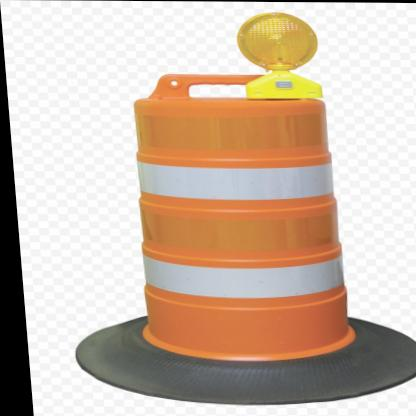obstacle: (98, 64, 362, 364)
